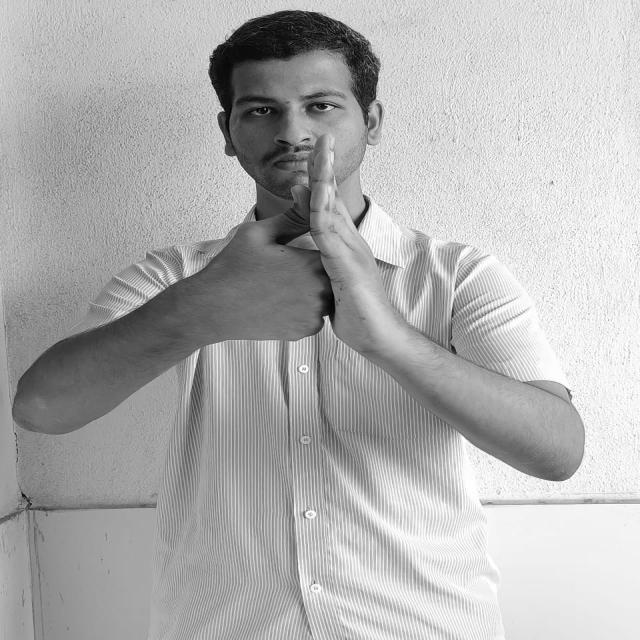Well Done: (209, 131, 392, 340)
